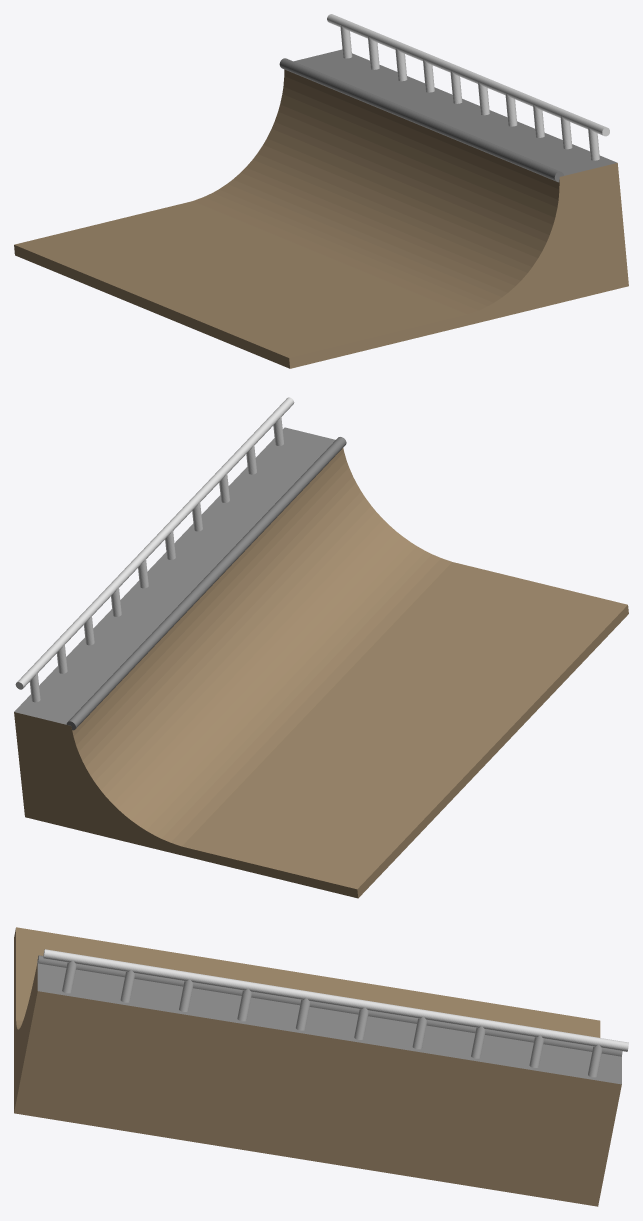
The model's file is Rampa.fbx.
The picture shows the model from 3 angles, top to bottom: view 1: azimuth 30°, elevation 25°; view 2: azimuth 150°, elevation 25°; view 3: azimuth 270°, elevation 25°; orthographic projection. The views are drawn at different scales.
Parts seen in each view (by area): view 1: Rampa normal; view 2: Rampa normal; view 3: Rampa normal.
Part boxes in pixels (x1,y1,x2,y2): Rampa normal: [14, 14, 628, 368]; Rampa normal: [14, 397, 628, 898]; Rampa normal: [14, 927, 628, 1206].
Size of the model in its own units: 1328 by 891 by 1967.
